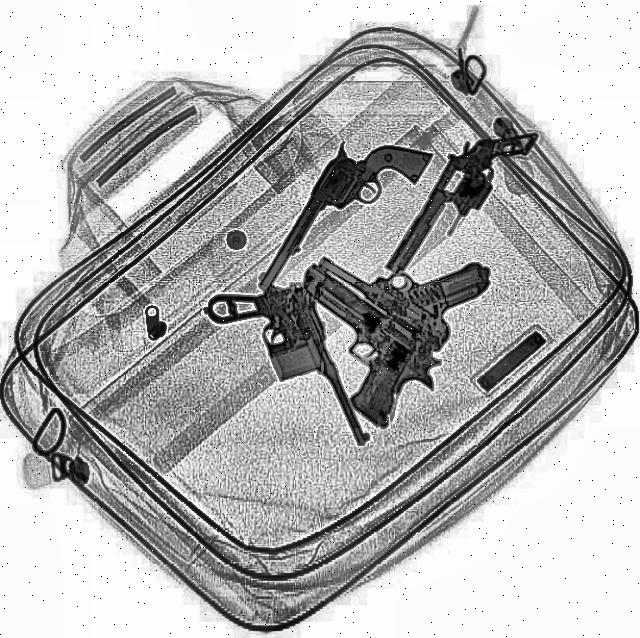Gun: (250, 114, 432, 328), (248, 264, 454, 438), (202, 269, 372, 477), (311, 192, 501, 356), (384, 107, 538, 299)
